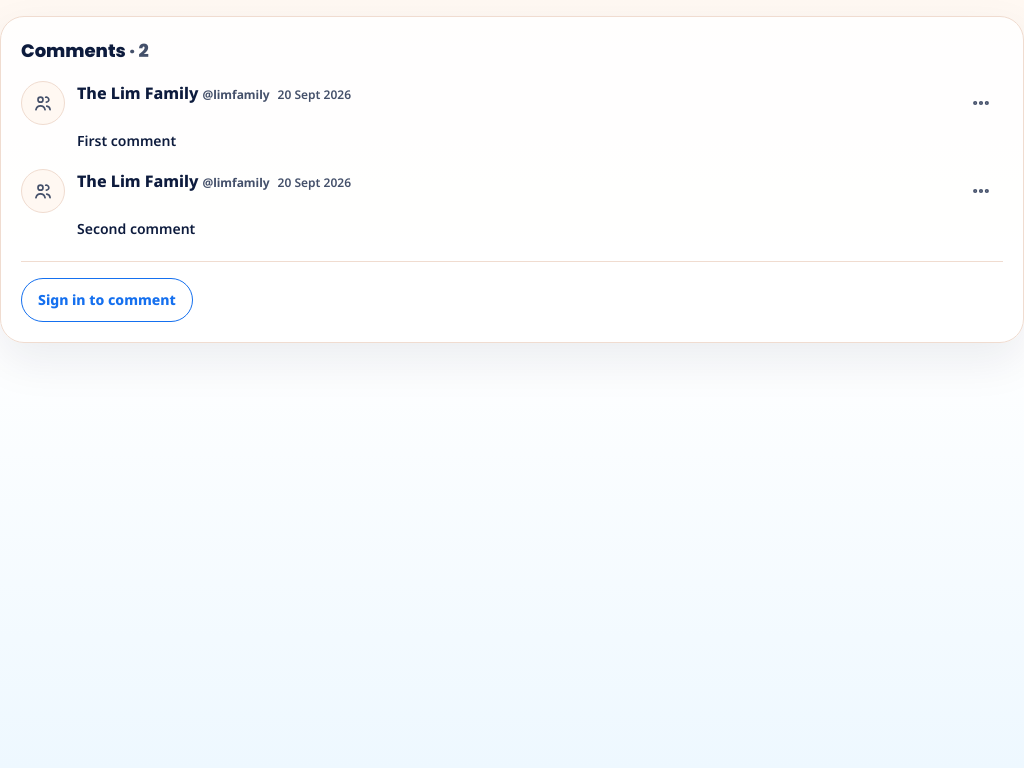
Test: Moment Comments › accessibility › keeps one menu open at a time and the action reachable by keyboard
What coordinates should you click on to do the following:
click the 1st button named "Comment actions"
I would click on:
 (981, 103)
Its box is [959,81,1003,125].
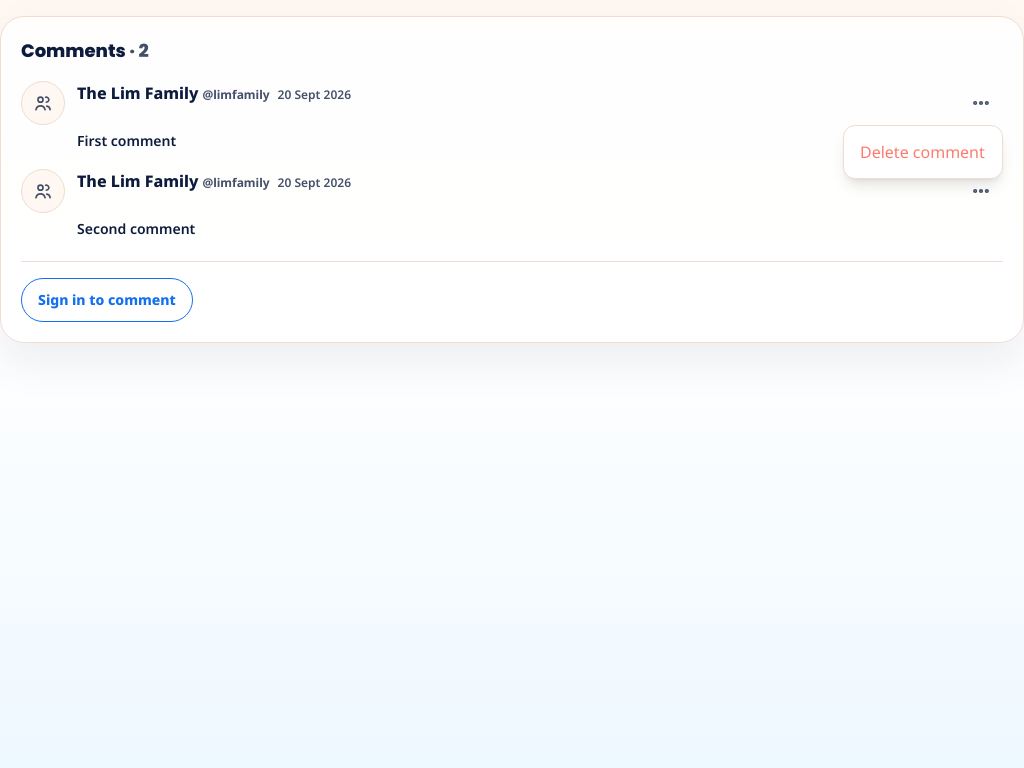
What coordinates should you click on to do the following:
click the 2nd button named "Comment actions"
I would click on:
 (981, 191)
Its box is [959,169,1003,213].
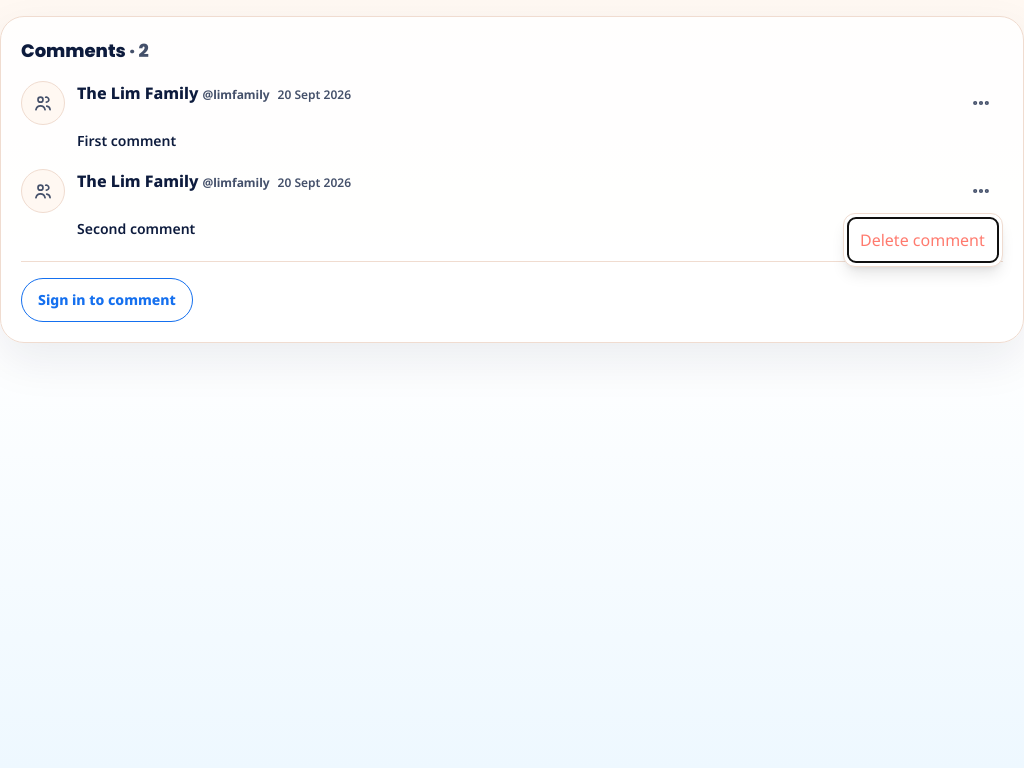
Expected: the number of buttons "Delete comment" is 1
Expected: the 2nd button named "Comment actions" is expanded, [959,169,1003,213]
What coordinates should you click on to do the following:
click the button "Delete comment"
I would click on:
 (923, 240)
Its box is [848,218,998,262].
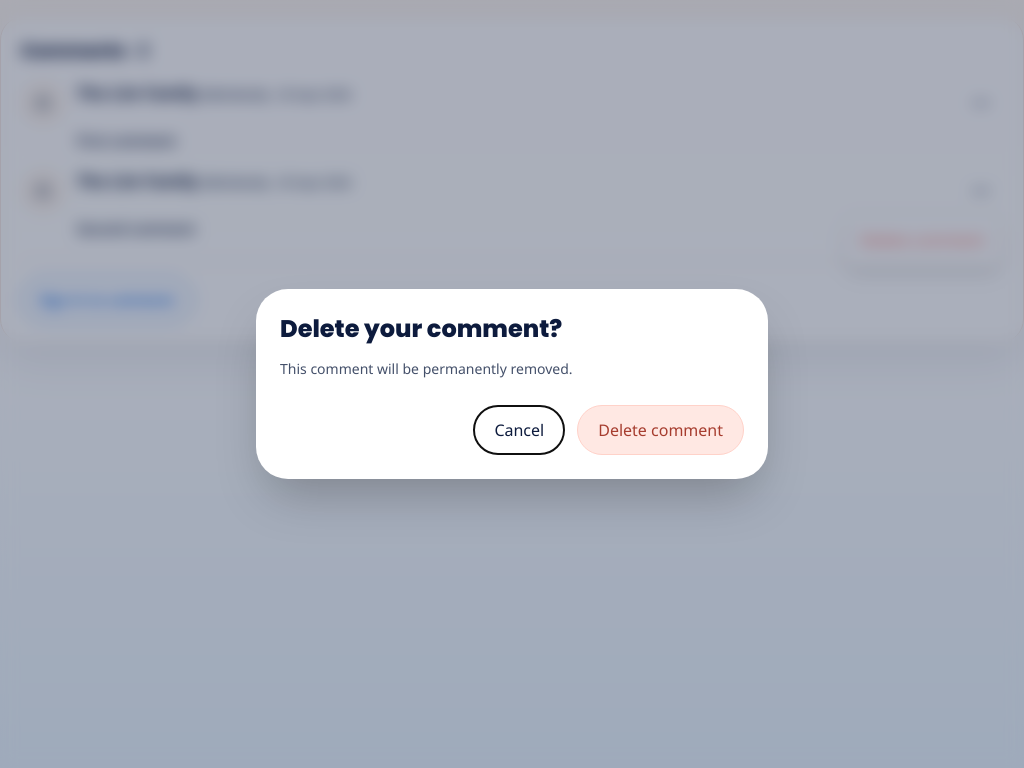
Expected: the dialog "Delete your comment?" is shown
